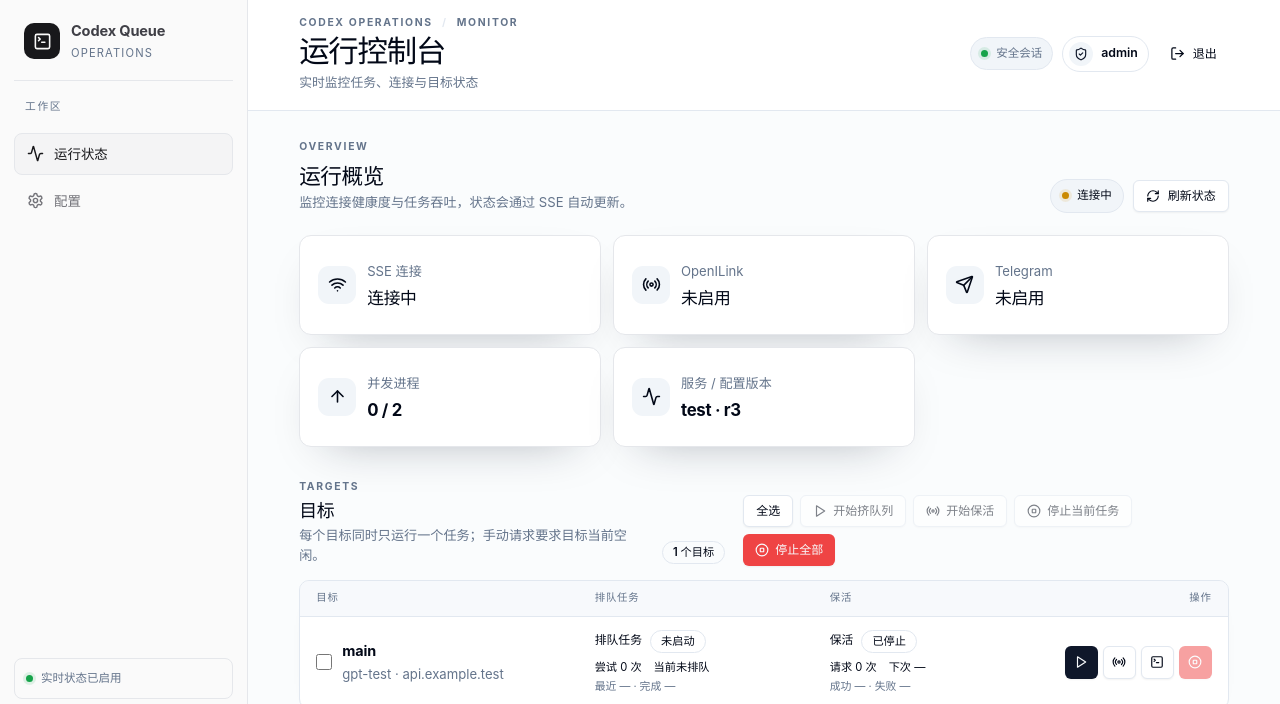
Test: console › creates a target from the configuration view without echoing a key
Expected: the heading "main" is shown, [342, 640, 376, 661]
Click the button "配置" at {"x": 124, "y": 201}, box [14, 180, 233, 222]
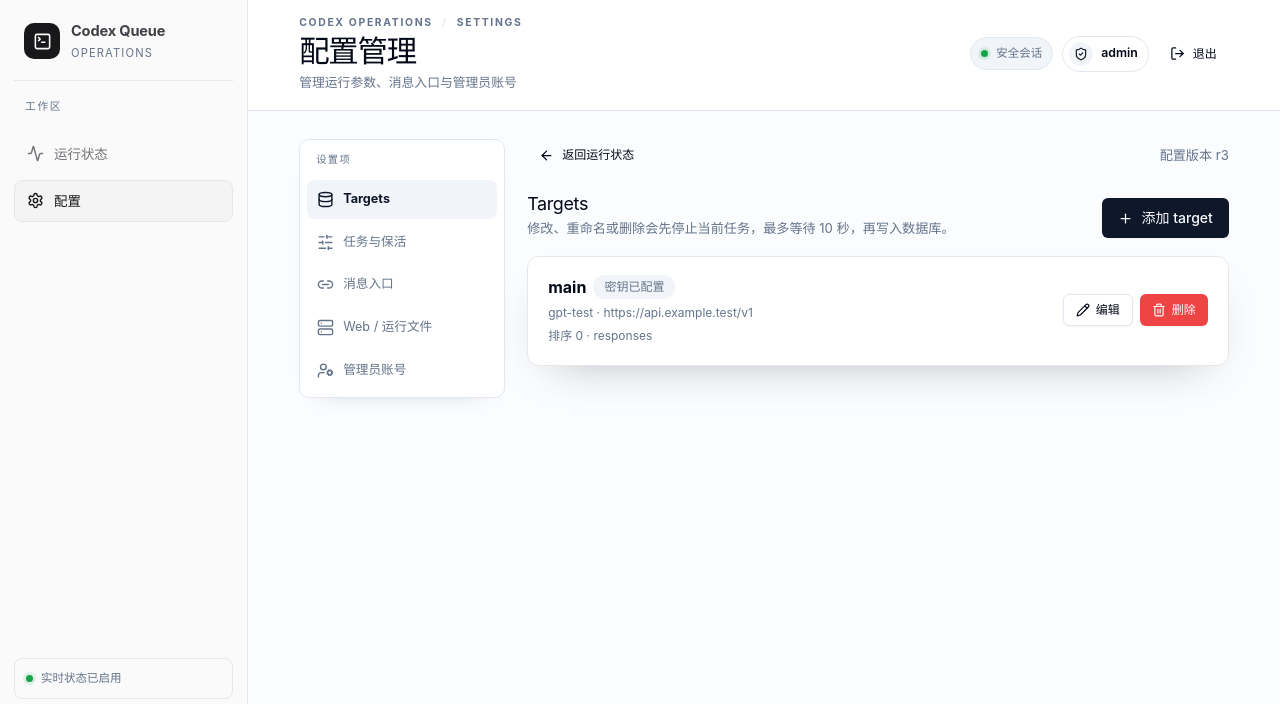
Expected: the heading "Targets" is shown, [527, 193, 588, 214]
Click the button "添加 target" at {"x": 1166, "y": 218}, box [1102, 198, 1229, 238]
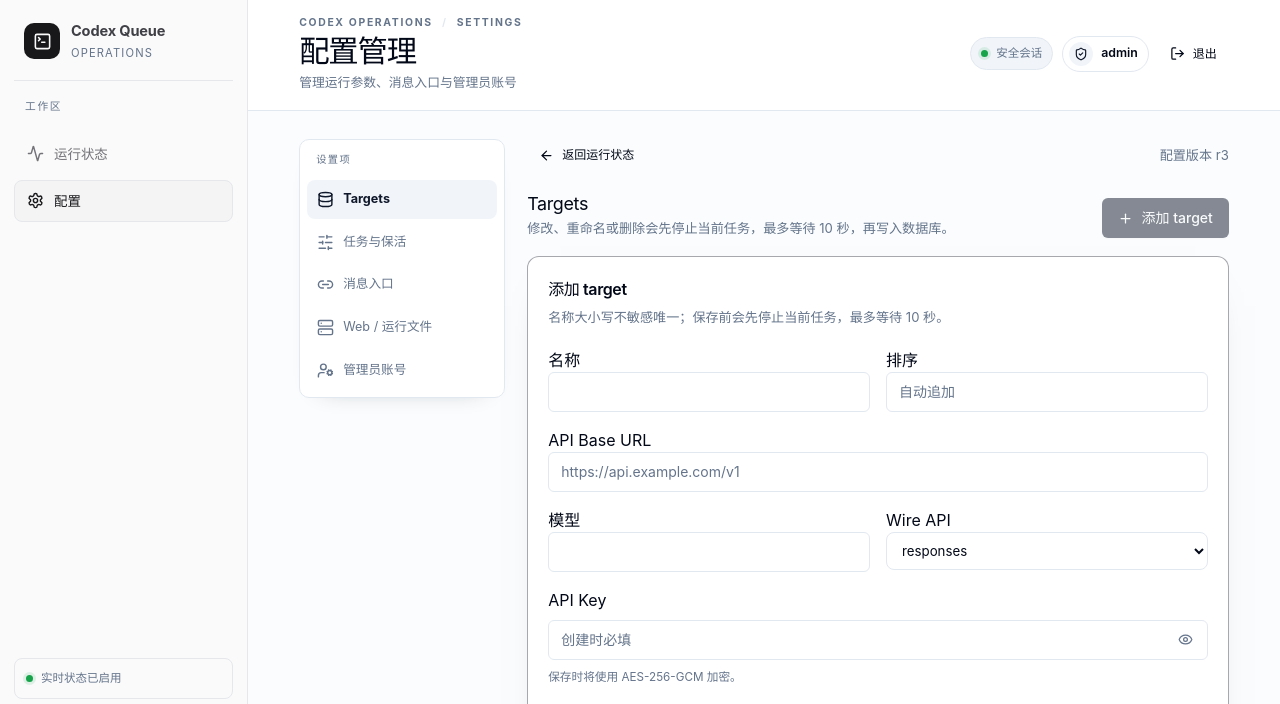
Type "backup" into the field labelled "名称" at {"x": 709, "y": 392}, box [548, 372, 870, 412]
Type "https://backup.example/v1" into the field labelled "API Base URL" at {"x": 878, "y": 472}, box [548, 452, 1208, 492]
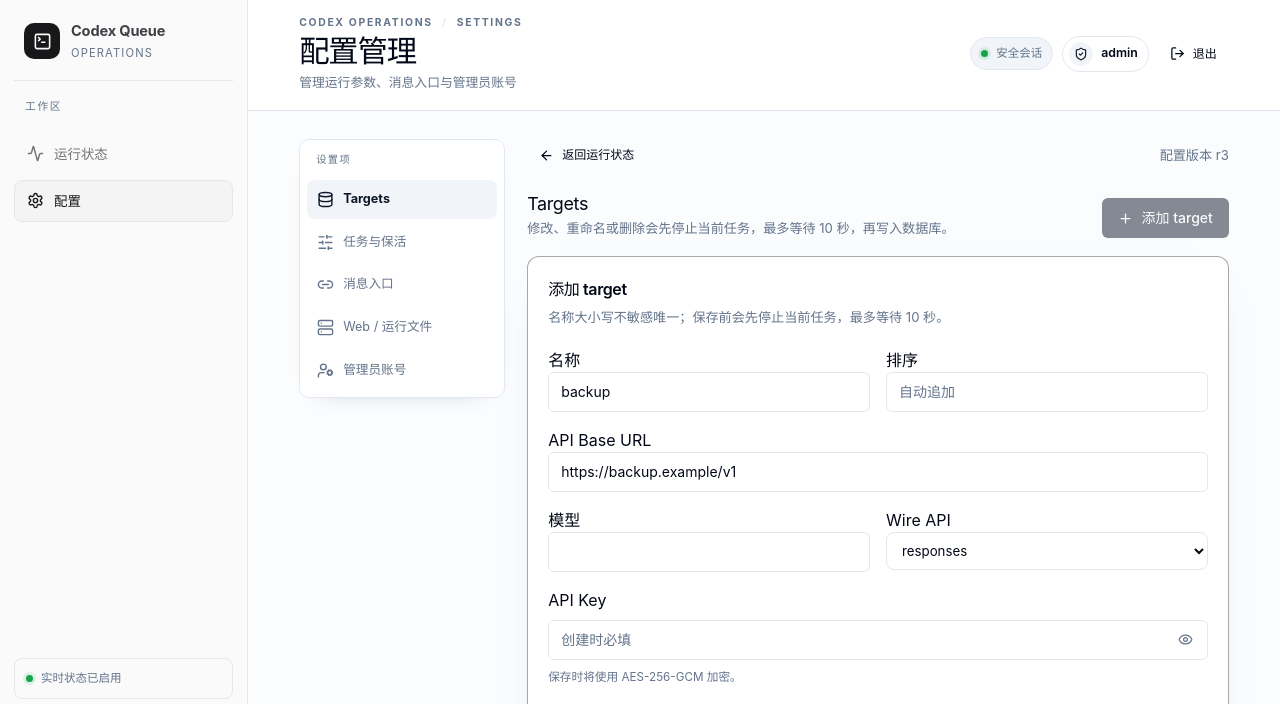
Type "gpt-backup" into the field labelled "模型" at {"x": 709, "y": 552}, box [548, 532, 870, 572]
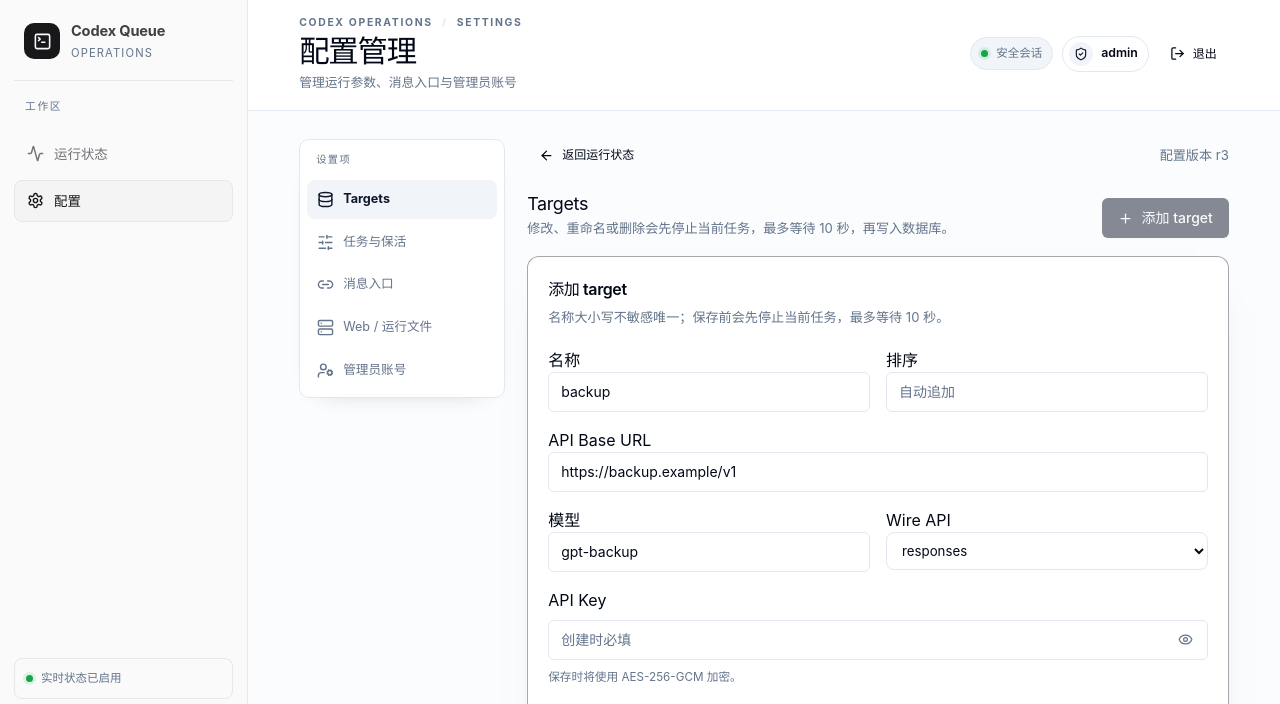
Type "new-secret" into the password field labelled "API Key" at {"x": 878, "y": 640}, box [548, 620, 1208, 660]
(page scrolled)
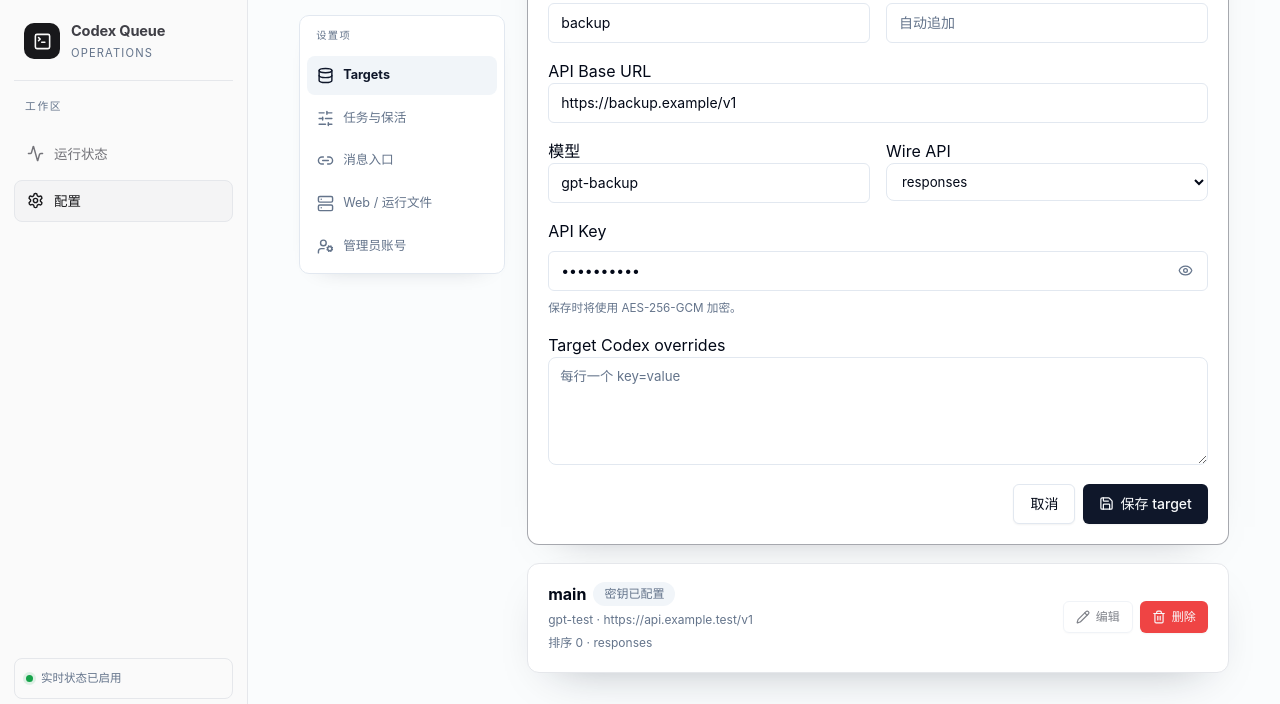
Click the button "保存 target" at {"x": 1146, "y": 504}, box [1084, 484, 1208, 524]
(page scrolled)
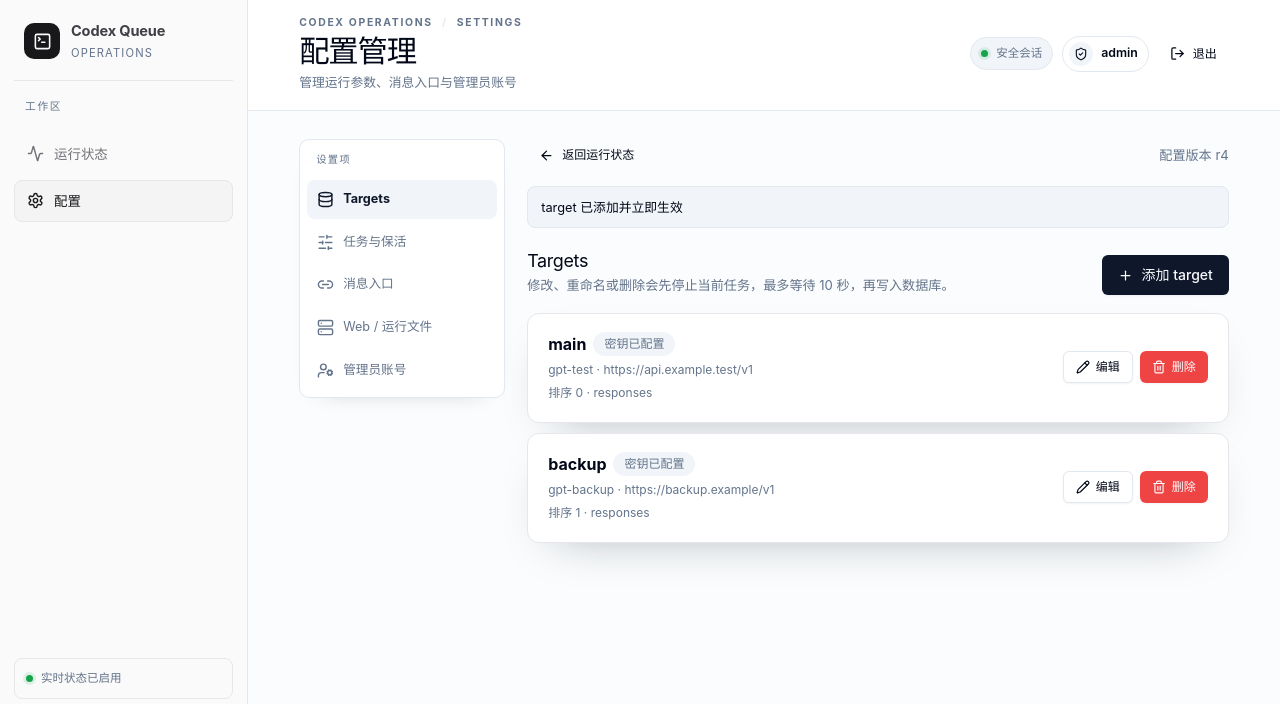
Expected: the text "backup" is shown, [548, 452, 606, 476]
